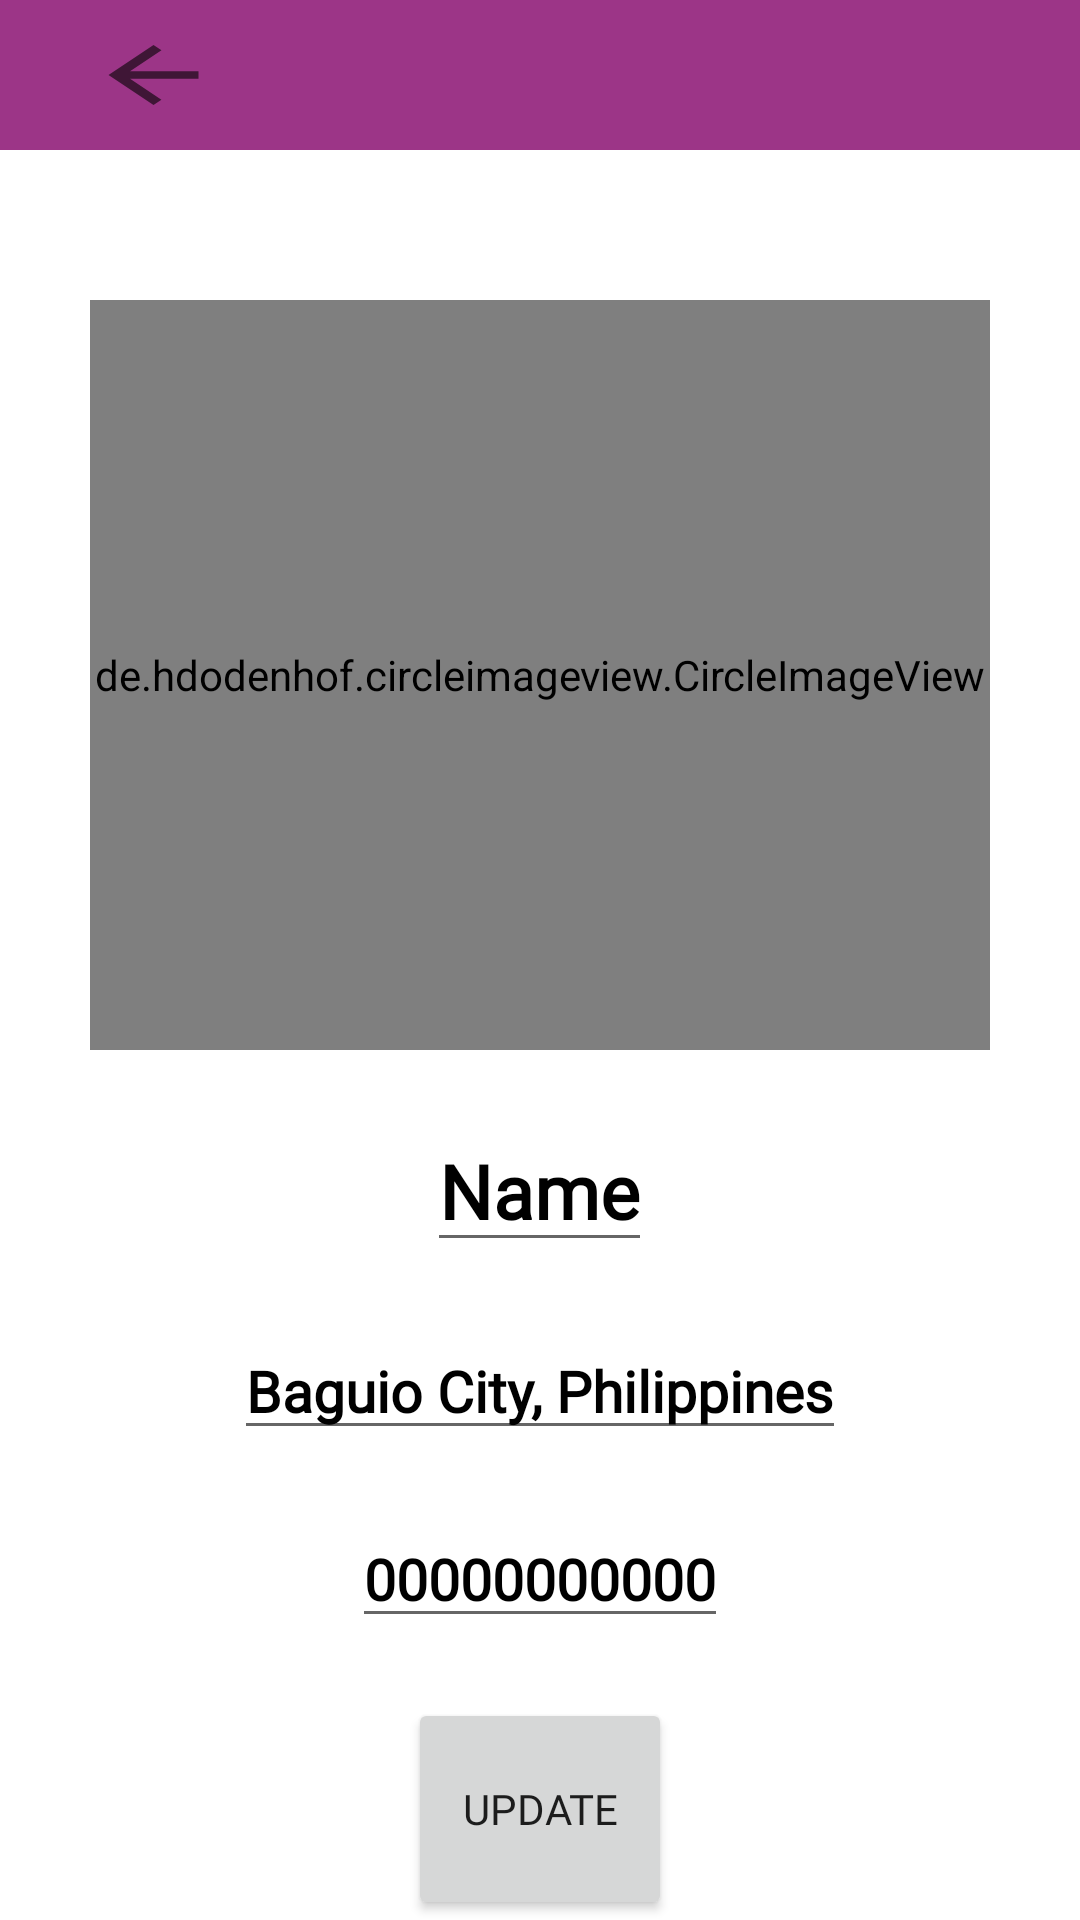

Icons on this 1080 × 1920 Android screen, each with the point to tap as (x,y):
arrow back: (154,75)
